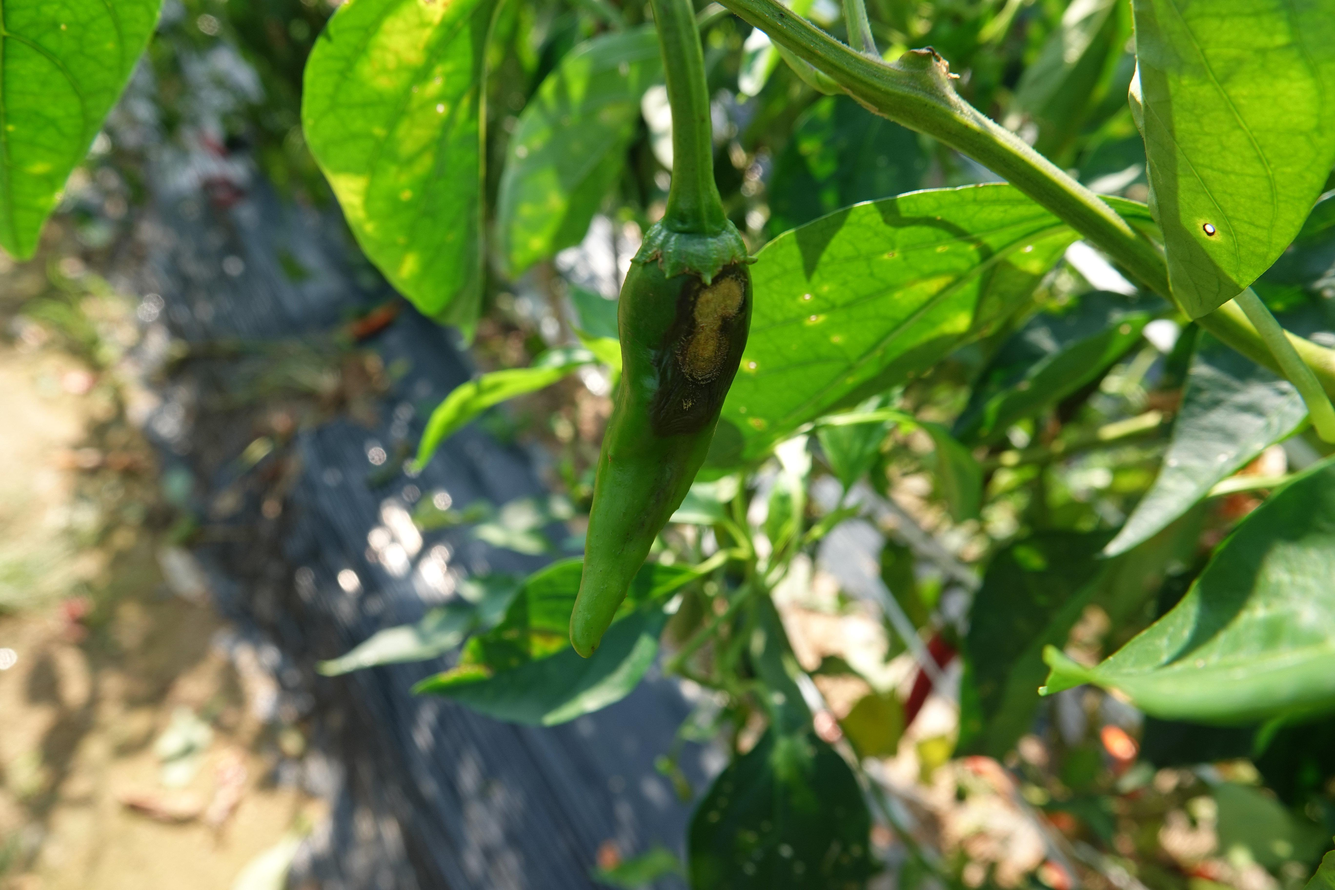Busuk Buah Antraknosa: (566, 215, 757, 660)
Virus Kuning: (288, 0, 499, 358)
